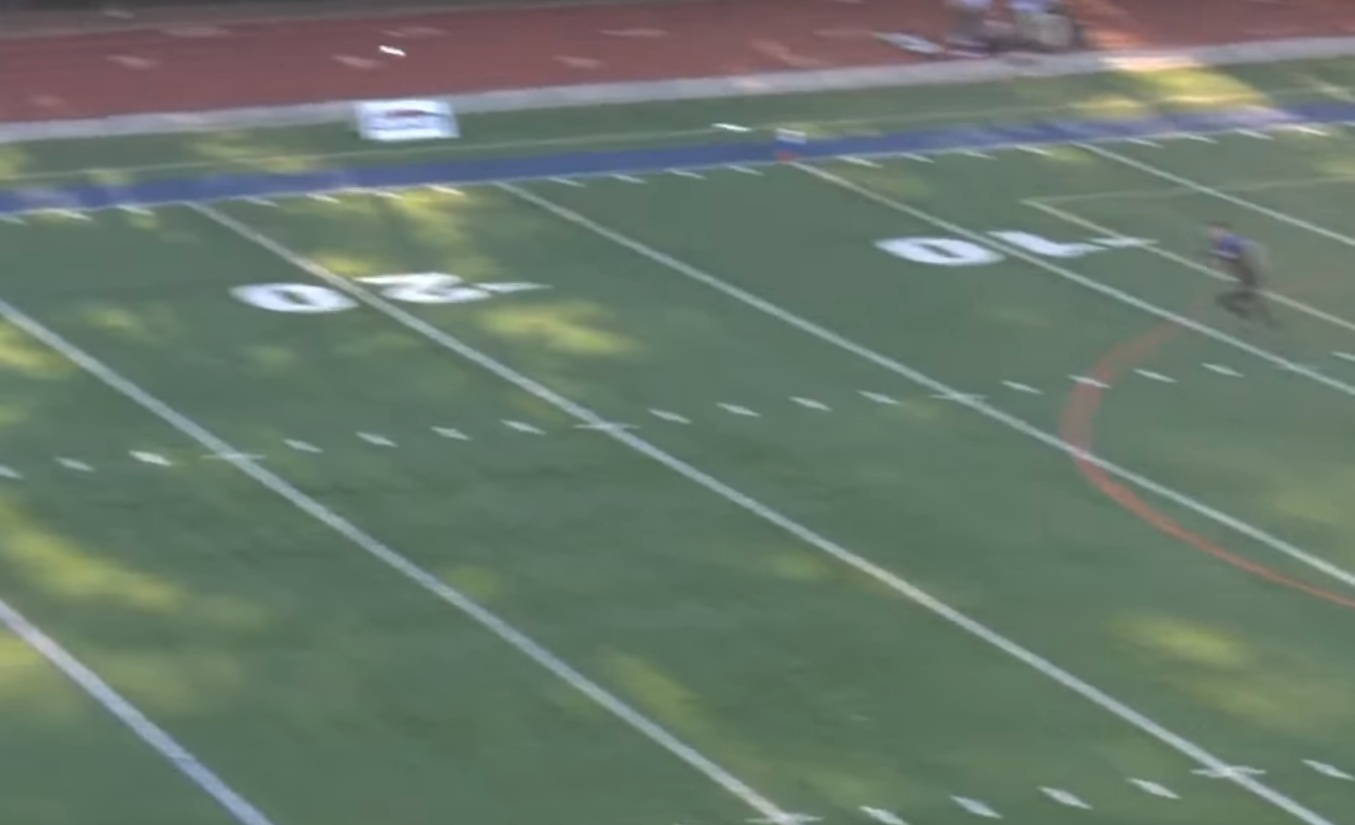frisbee: (379, 44, 406, 57)
